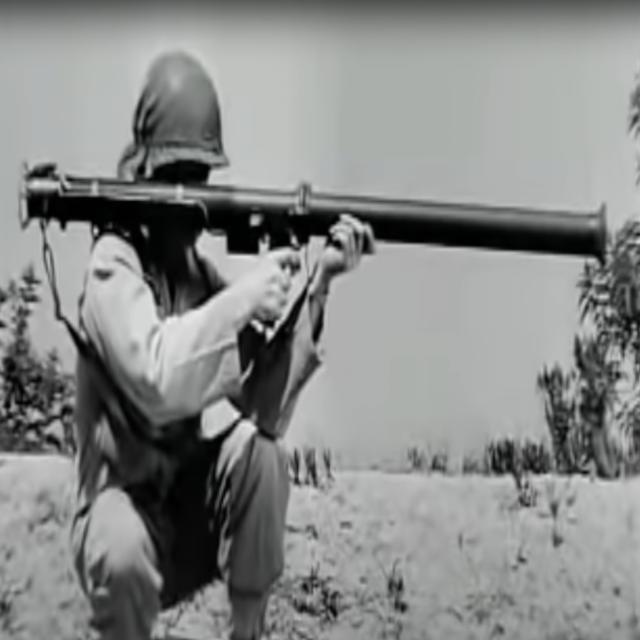bazooka: (13, 133, 629, 305)
